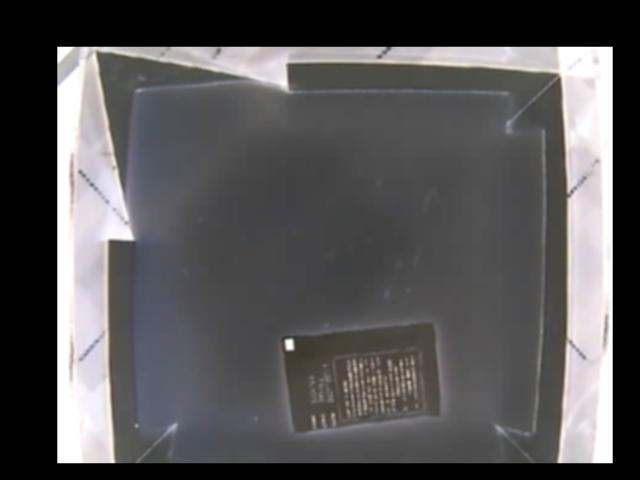Medicine: (279, 319, 450, 432)
